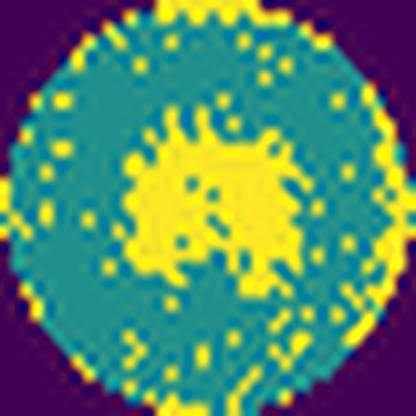Center: (122, 102, 314, 300)
